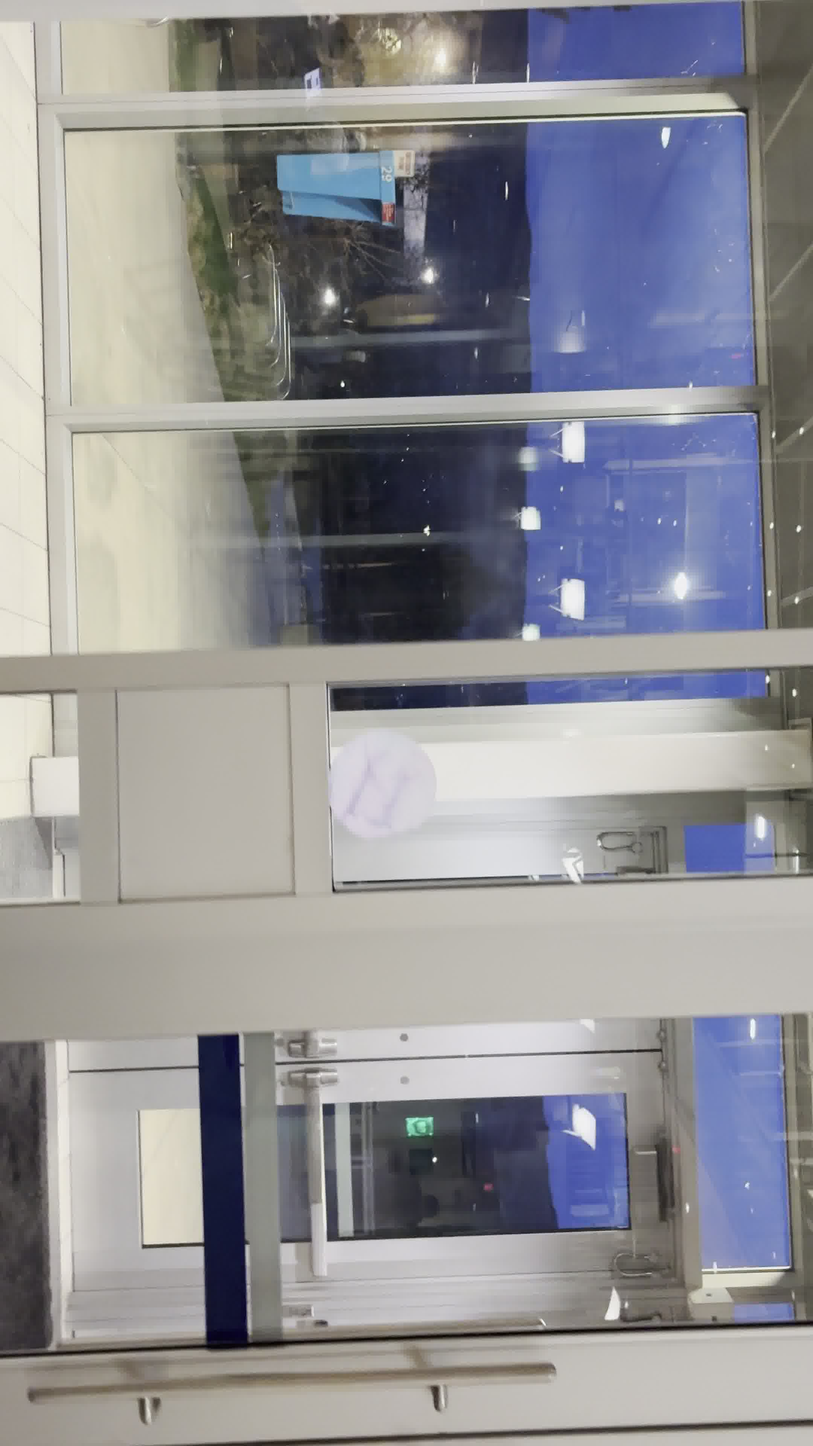Target: (327, 731, 438, 840)
